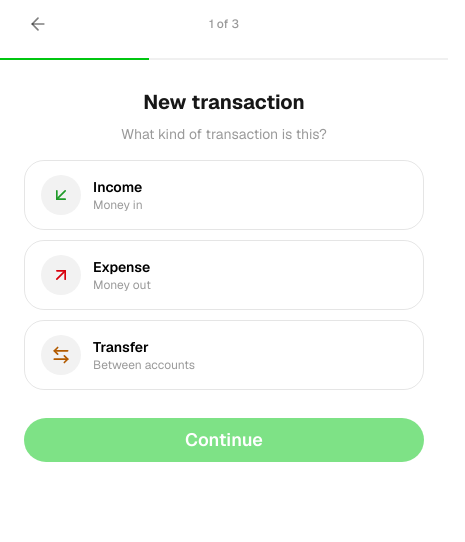
Scenario: AddTransactionWizard — step 1 (type selection) › selecting a type enables Continue and advances to step 2
This screenshot has width=465, height=542.
Click the text "Income": (118, 187) [93,178,142,196]
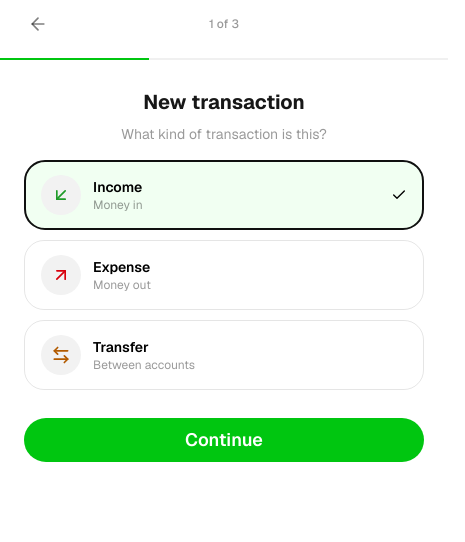
Click the button "Continue": (224, 440) [24,418,424,462]
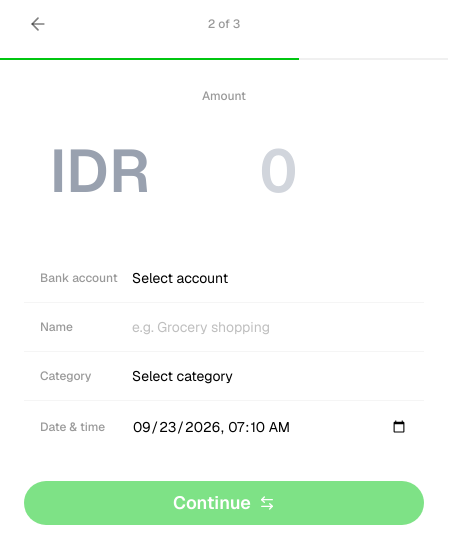
Expected: the text "2 of 3" is shown, [208,16,240,32]
